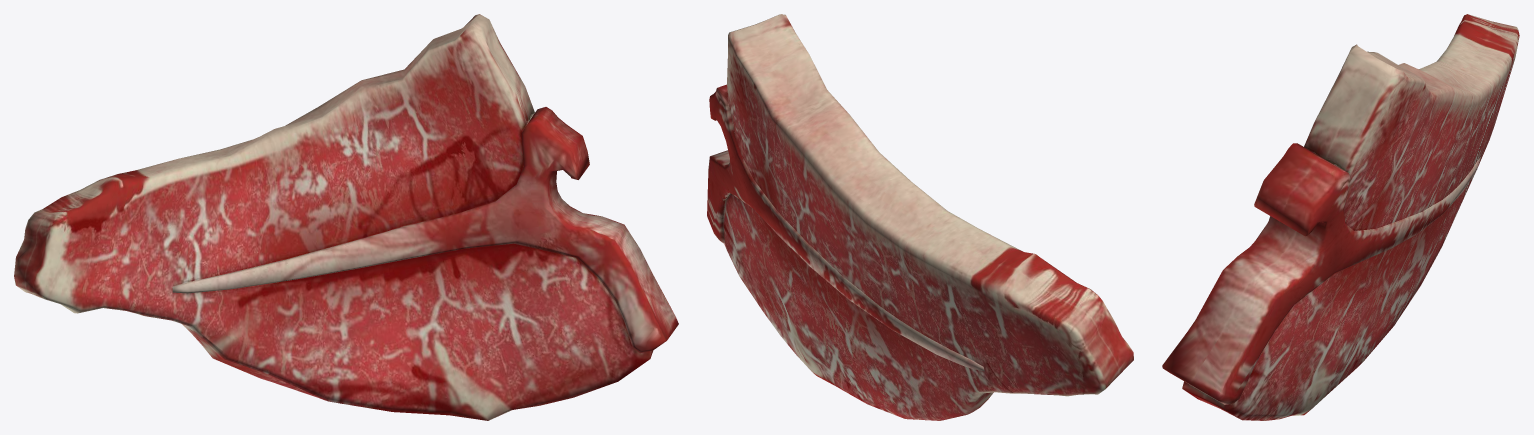
Rendered from carne-hero.glb.
The picture shows the model from 3 angles, left to right: view 1: azimuth 30°, elevation 25°; view 2: azimuth 150°, elevation 25°; view 3: azimuth 270°, elevation 25°; orthographic projection. The views are drawn at different scales.
Parts seen in each view (by area): view 1: Meat_Rib_0; view 2: Meat_Rib_0; view 3: Meat_Rib_0.
Part boxes in pixels (x1=…): Meat_Rib_0: x1=14, y1=14, x2=678, y2=420; Meat_Rib_0: x1=707, y1=14, x2=1133, y2=420; Meat_Rib_0: x1=1162, y1=14, x2=1519, y2=420.
Bounding box in the file's own units: 56.85 × 37.86 × 32.81.
1 material, 1 textured.
